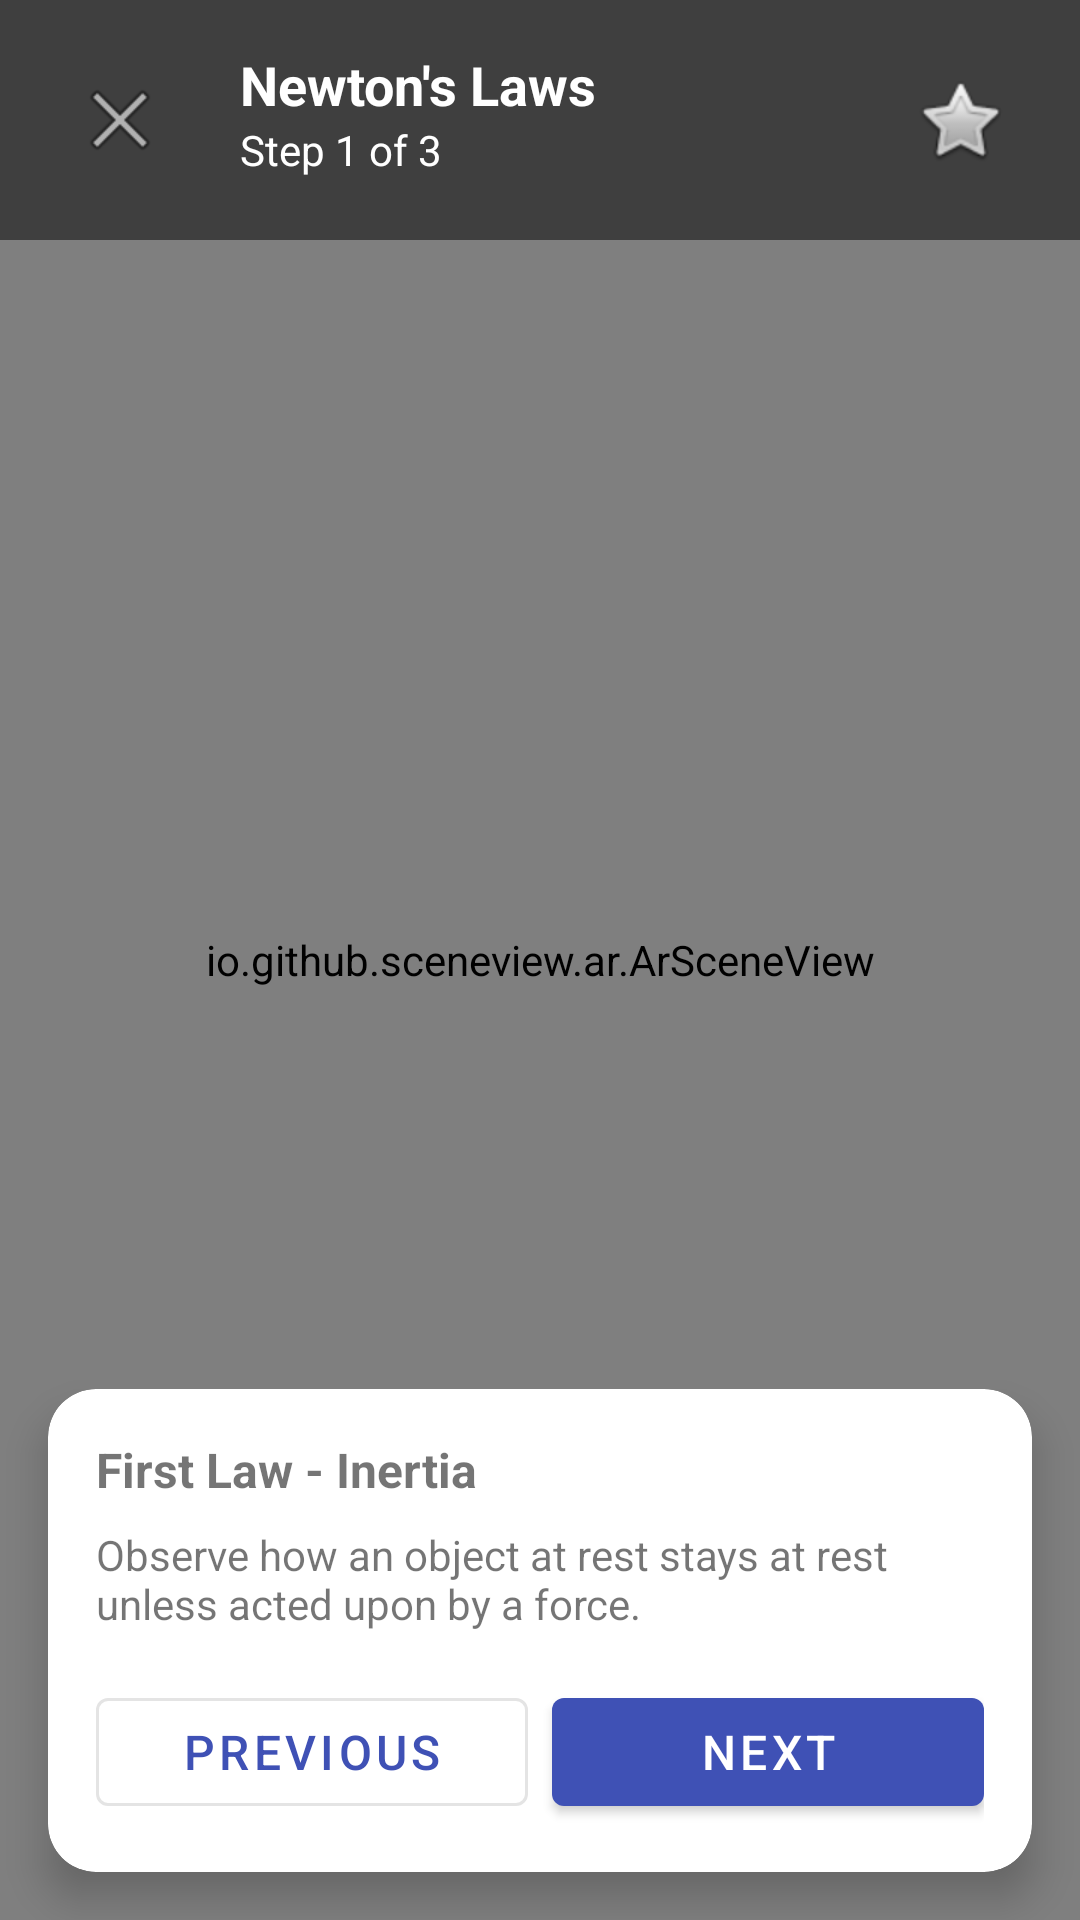

Icons on this 1080 × 1920 Android screen, each with its box as bbox=[x1, y1, x2, y2]:
Bookmark: bbox=[923, 83, 999, 156]
